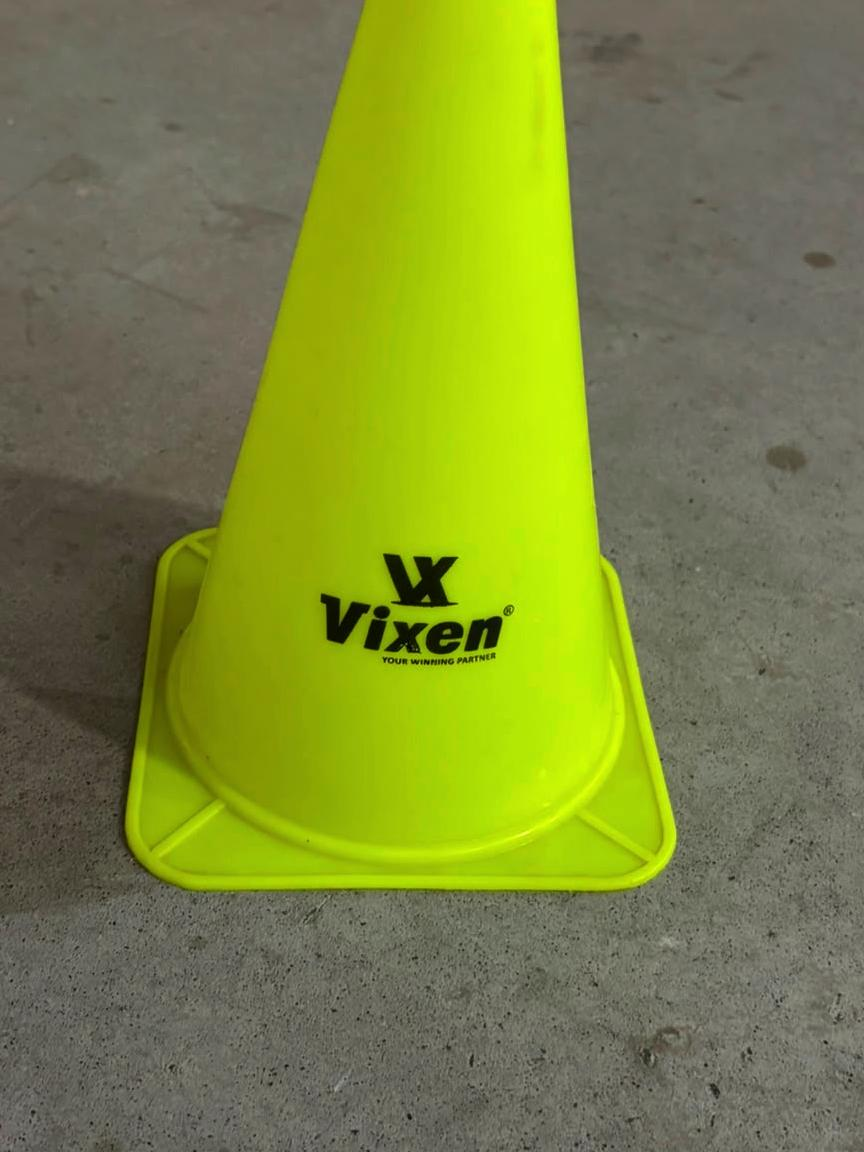0 cone: (125, 0, 674, 890)
